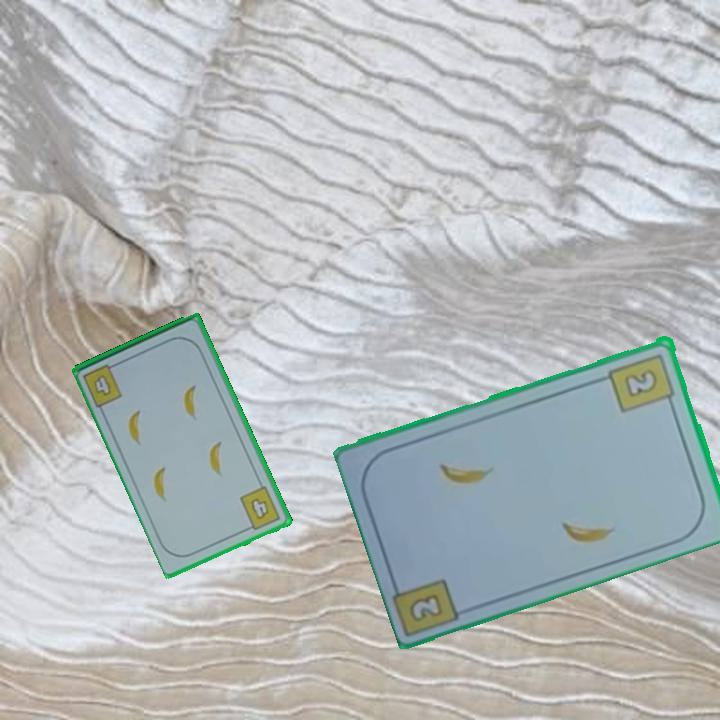2b: (606, 349, 678, 415), (405, 589, 446, 625)
4b: (236, 482, 284, 534), (79, 359, 125, 410)
